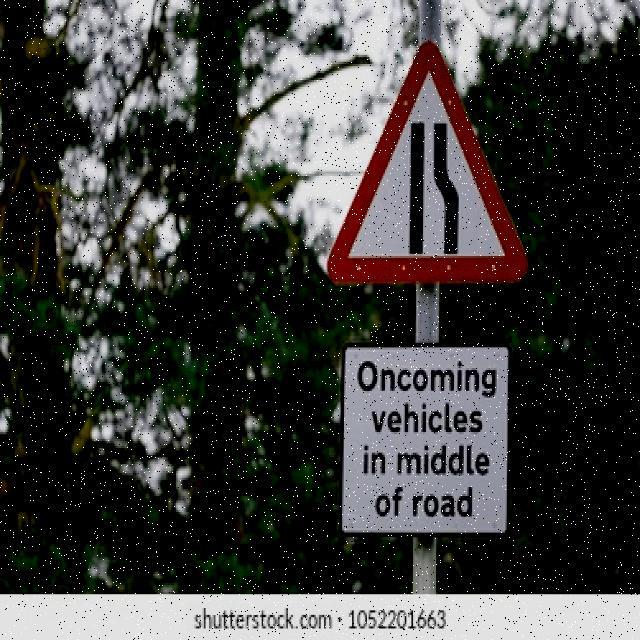Traffic sign: (322, 36, 534, 544)
